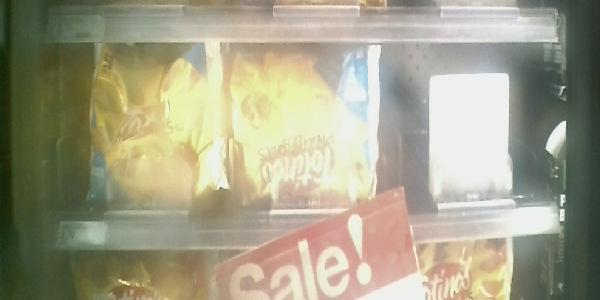icecream: (226, 41, 374, 209), (91, 41, 223, 205)
